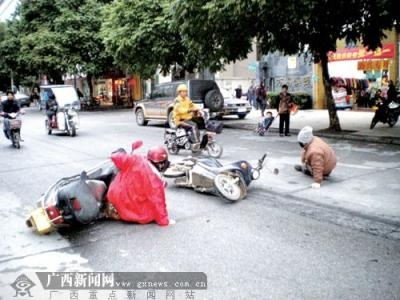falling: (286, 121, 340, 190)
